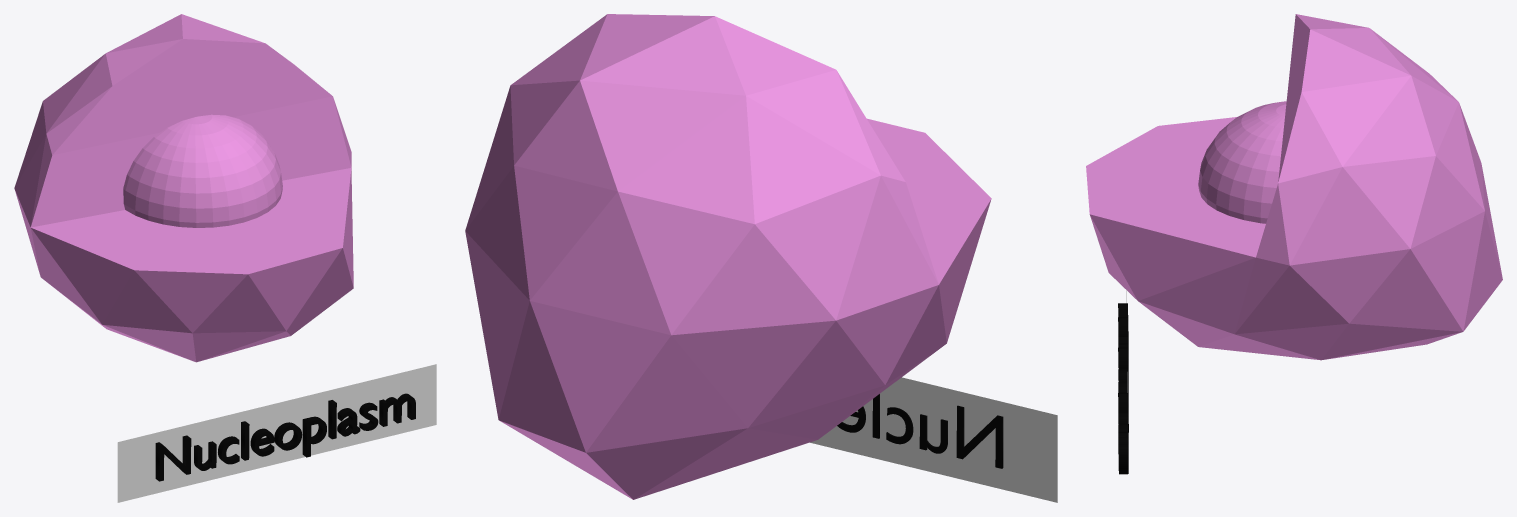
The model's file is nucleoplasm1.gltf.
The picture shows the model from 3 angles, left to right: view 1: azimuth 30°, elevation 25°; view 2: azimuth 150°, elevation 25°; view 3: azimuth 270°, elevation 25°; orthographic projection. The views are drawn at different scales.
Visible parts, largest first — view 1: Icosphere.010, Plane.044, Text.029; view 2: Icosphere.010, Plane.044, Text.029; view 3: Icosphere.010, Text.029.
Part boxes in pixels (bbox=[...]): Icosphere.010: bbox=[14, 14, 353, 362]; Plane.044: bbox=[117, 364, 436, 502]; Text.029: bbox=[155, 393, 415, 481]; Icosphere.010: bbox=[465, 14, 991, 499]; Plane.044: bbox=[810, 377, 1057, 502]; Text.029: bbox=[837, 394, 1003, 468]; Icosphere.010: bbox=[1086, 14, 1502, 360]; Text.029: bbox=[1118, 303, 1128, 474].
Bounding box in the file's own units: 0.8041 × 0.8698 × 0.85.
